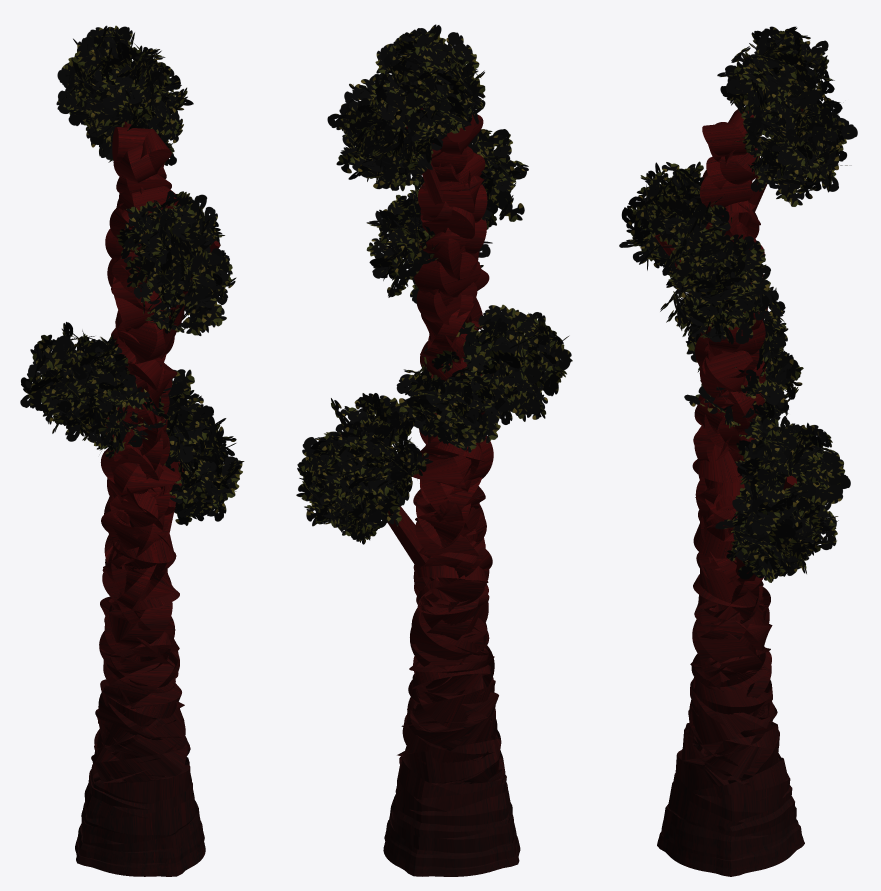
The model's file is deadwood_snag_v03.glb.
3 renders of one model, left to right at view 1: azimuth 30°, elevation 25°; view 2: azimuth 150°, elevation 25°; view 3: azimuth 270°, elevation 25°, orthographic. The views are drawn at different scales.
Visible parts, largest first — view 1: deadwood_snag_v03; view 2: deadwood_snag_v03; view 3: deadwood_snag_v03.
Boxes of the visible parts, box(x1,y1,x2,y2) form: deadwood_snag_v03: box(20, 25, 244, 876); deadwood_snag_v03: box(296, 24, 572, 876); deadwood_snag_v03: box(619, 26, 857, 876).
Size of the model in its own units: 2.9 by 9.3 by 2.6.
2 materials, 2 textured.
